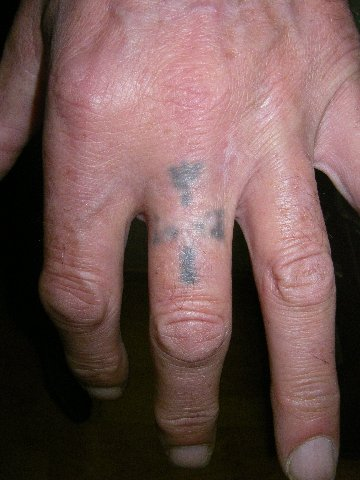tatu9_krest: (151, 159, 229, 280)
